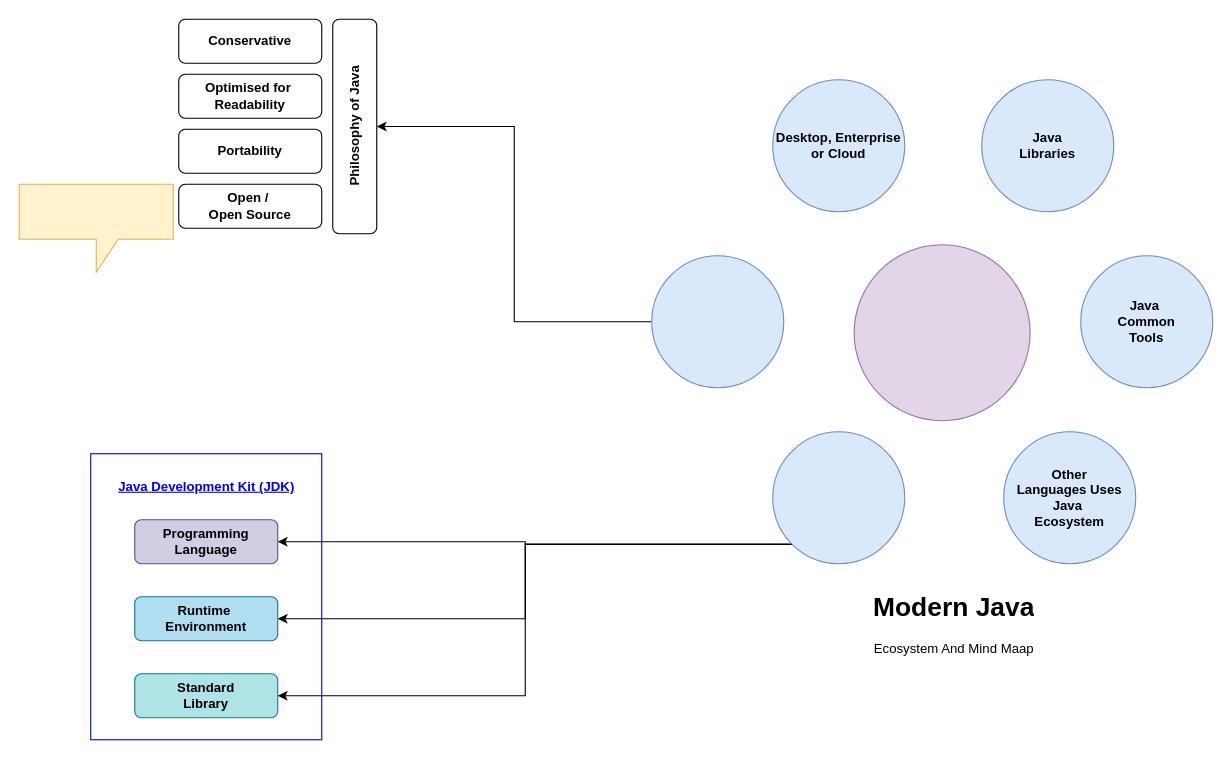
Some shapes in this 1232 by 759 pixel diagram are drawn without their labels. Each missing label, with the centre of its shape:
"Adopting Java" goes at [717,321].
"JAVA" goes at [941,332].
"Java Platform" goes at [838,497].
"There are many vendors of Java, Open JDK is Open Source" goes at [95,227].
